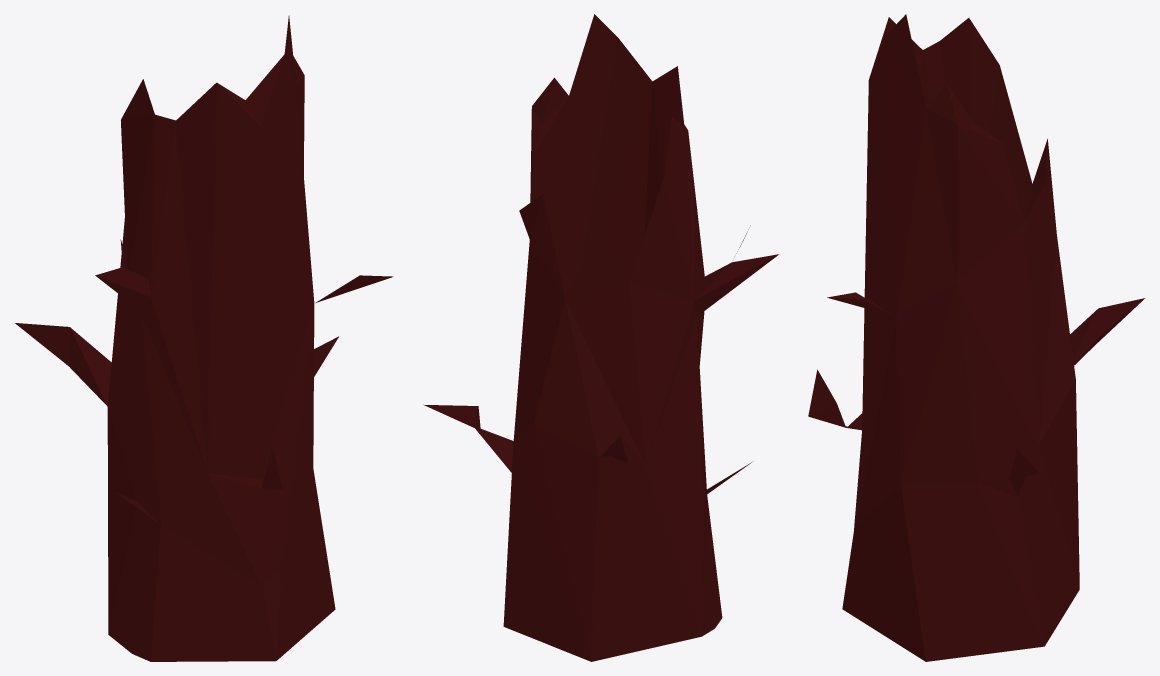
File: keepy_dodge_trunk.glb
3 renders of one model, left to right at view 1: azimuth 30°, elevation 25°; view 2: azimuth 150°, elevation 25°; view 3: azimuth 270°, elevation 25°, orthographic. The views are drawn at different scales.
Parts seen in each view (by area): view 1: dodge_trunk_150; view 2: dodge_trunk_150; view 3: dodge_trunk_150.
Part boxes in pixels (x1,y1,x2,y2): dodge_trunk_150: (15,15,393,661); dodge_trunk_150: (423,14,779,661); dodge_trunk_150: (808,14,1145,661).
Bounding box in the file's own units: 1.01 × 1.9 × 0.9353.
